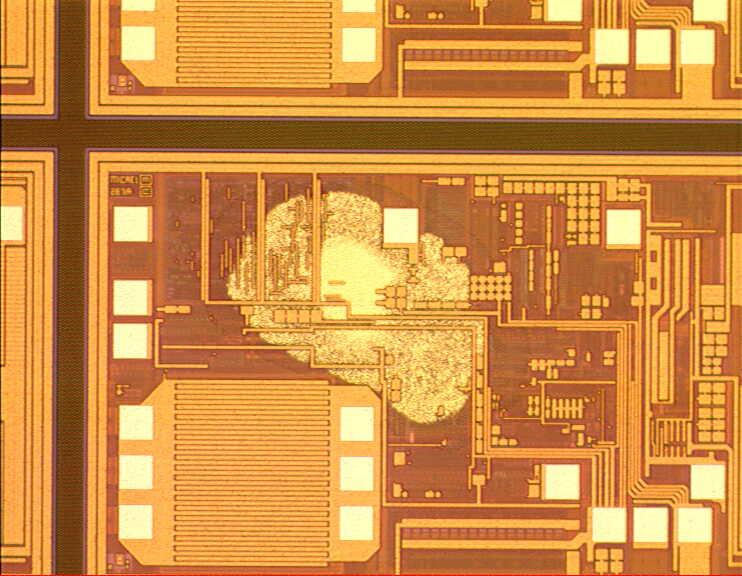BLOCK ETCH: (201, 176, 535, 448)
